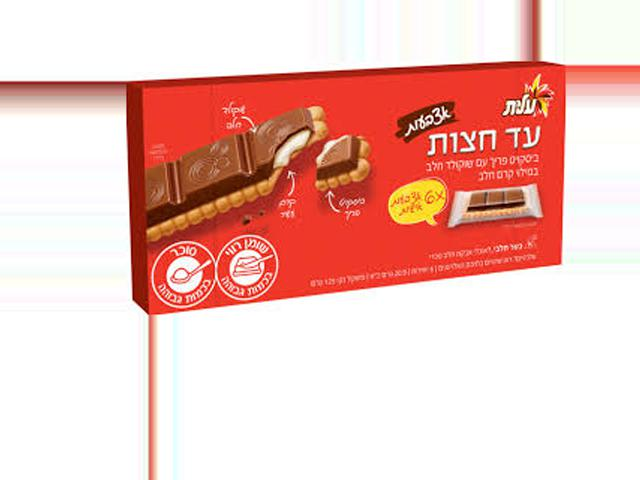chocolate: (129, 78, 567, 288)
